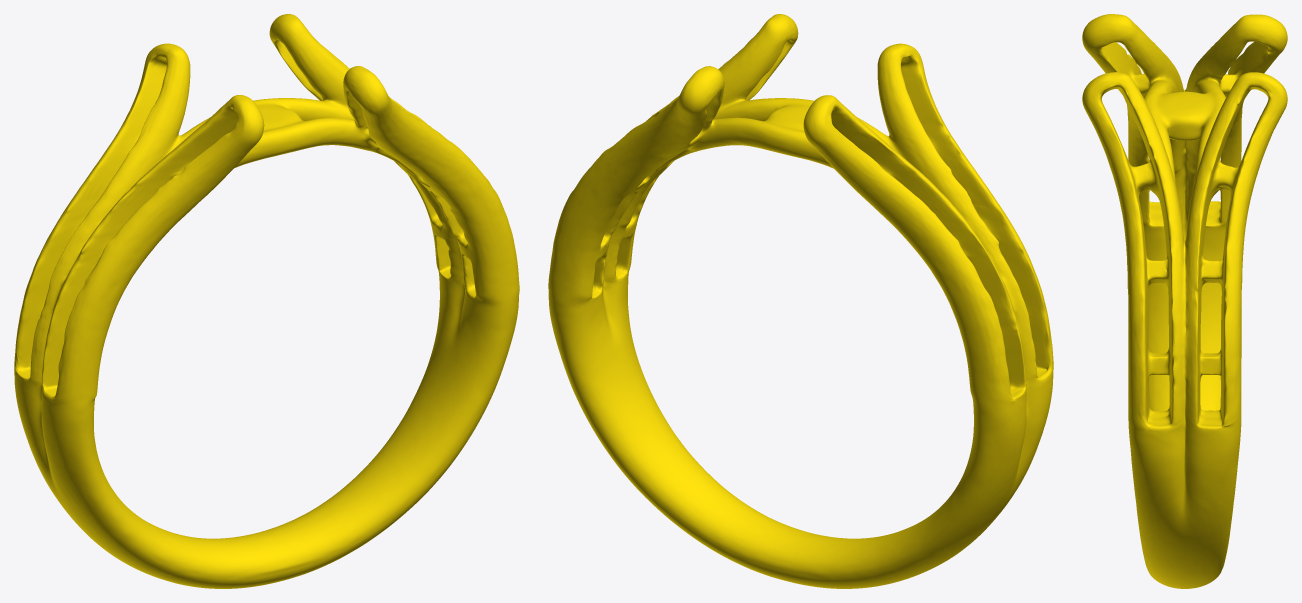
Rendered from Shank_Two row split_Channel_B_No, Hidden Halo_Band.glb.
3 views of the same model, side by side, from view 1: azimuth 30°, elevation 25°; view 2: azimuth 150°, elevation 25°; view 3: azimuth 270°, elevation 25° (orthographic).
Bounding box in the file's own units: 0.0213 × 0.0227 × 0.00814.
